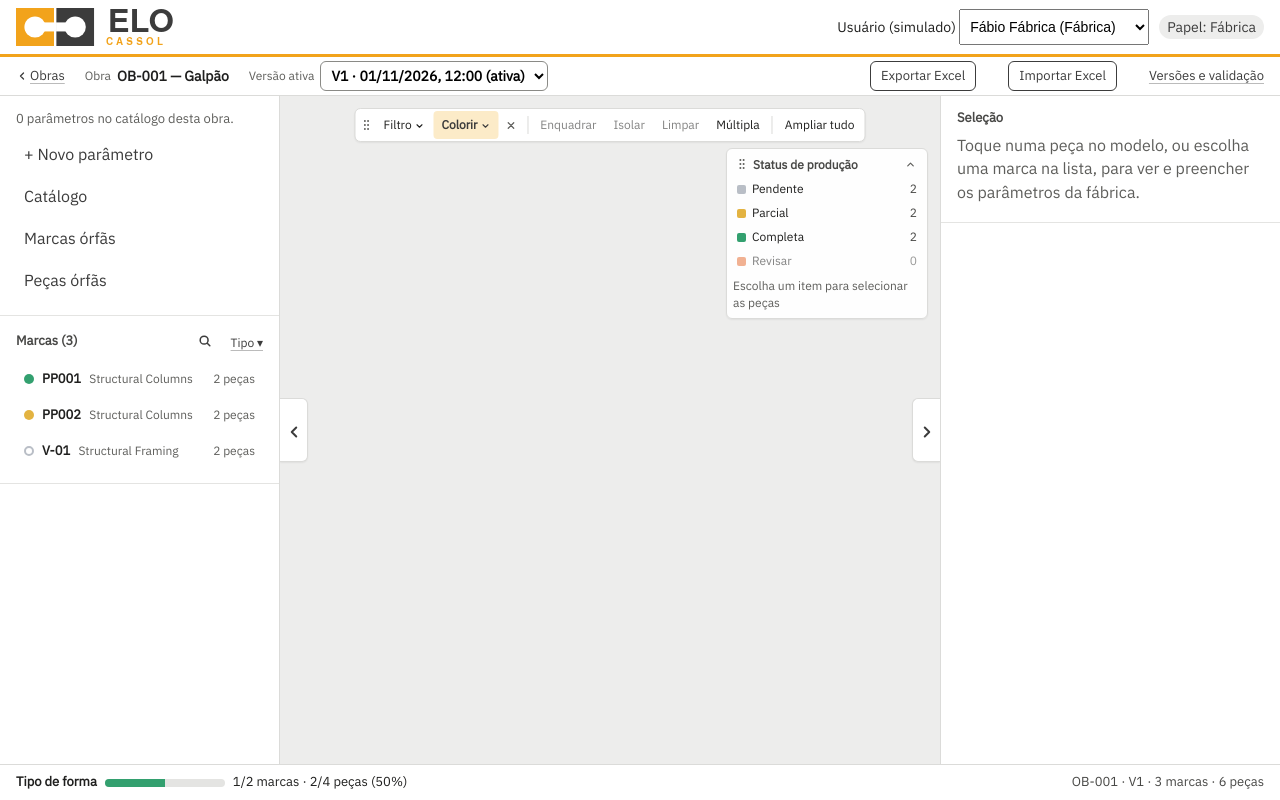
Filtro (F3) › Cancelar no Avançado não muda nada; "sem <parâmetro>" + Enter vira regra
Expected: the heading "Marcas (3)" is shown, x1=16 y1=332 x2=78 y2=349
Expected: the button "Ampliar tudo" is enabled, x1=777 y1=111 x2=863 y2=139
Click the button "Filtro". click: (404,125)
box: x1=376 y1=111 x2=432 y2=139
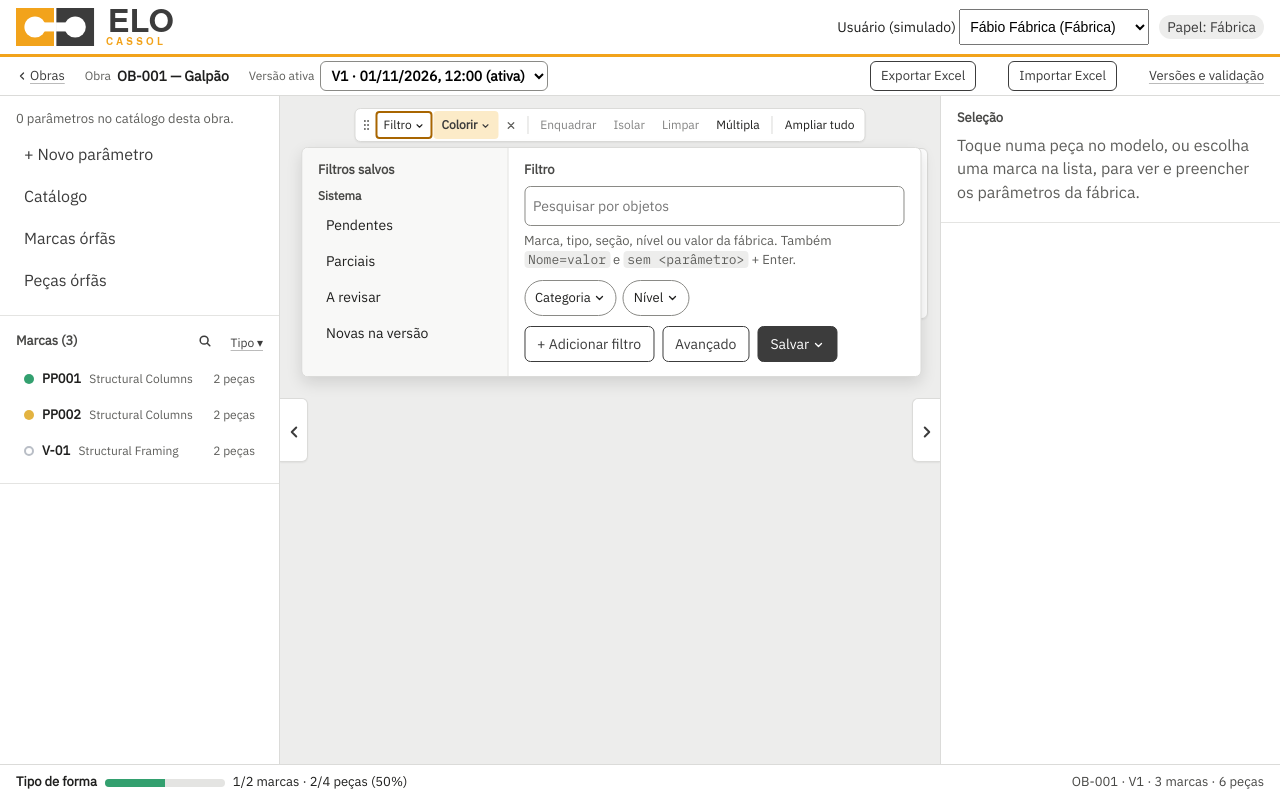
Click the button "Avançado". click: (706,344)
box: x1=662 y1=326 x2=750 y2=362
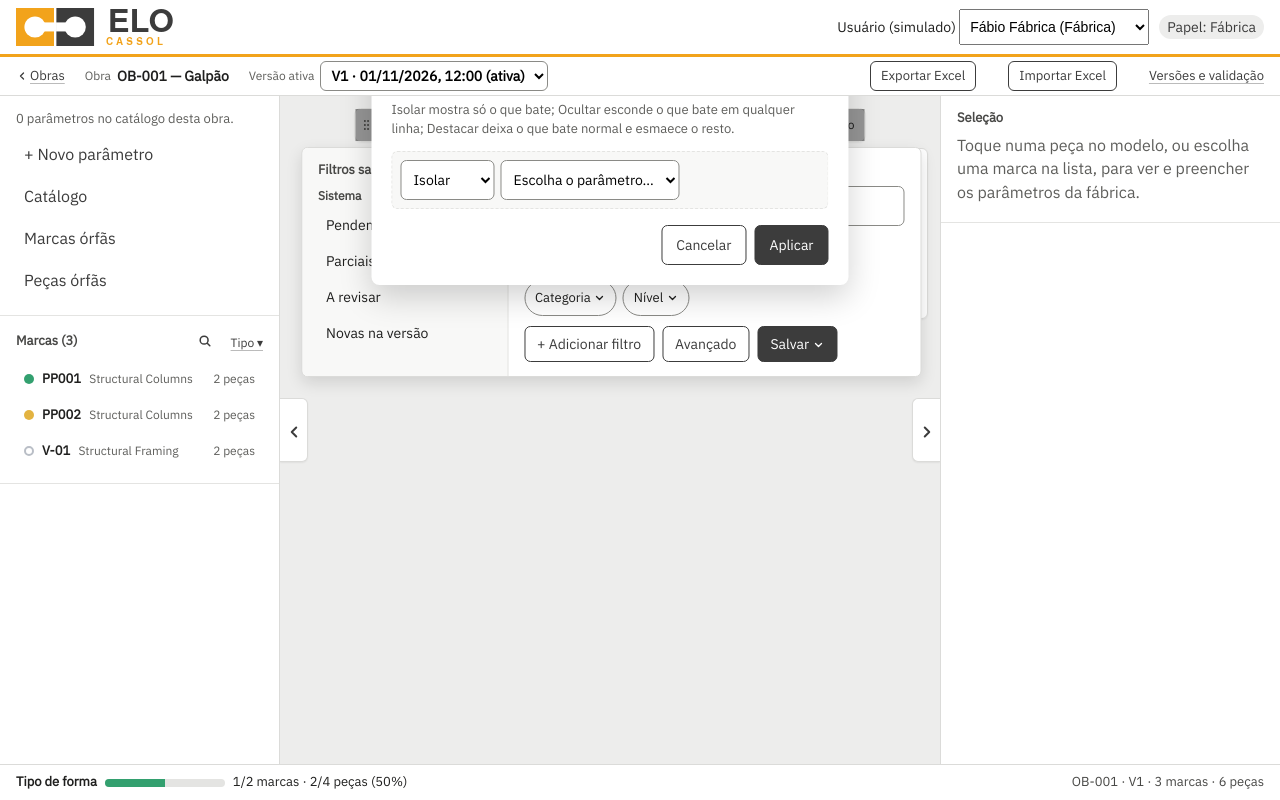
Select "Nome da montagem" in the dropdown named "Parâmetro da nova regra". click: (590,180)
box: x1=500 y1=160 x2=680 y2=200
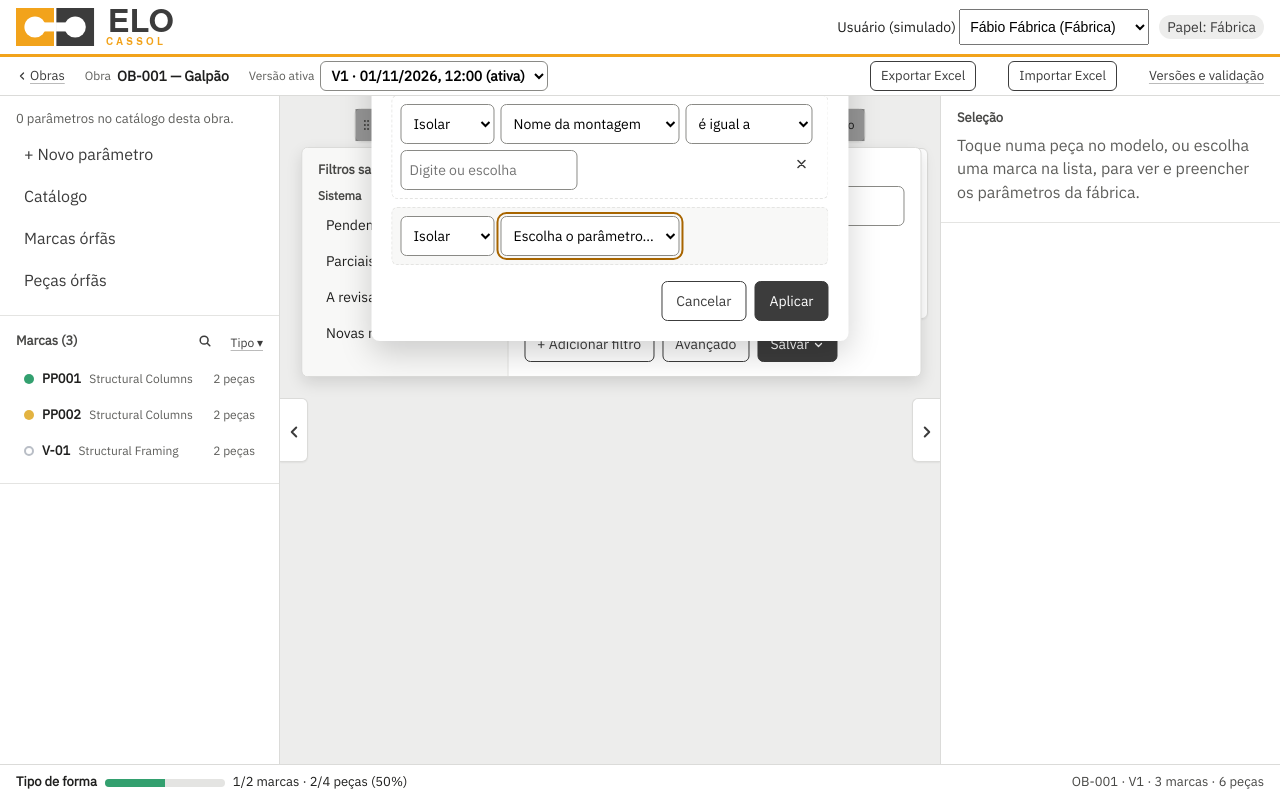
Click the button "Cancelar". click: (704,301)
box: x1=661 y1=281 x2=746 y2=321
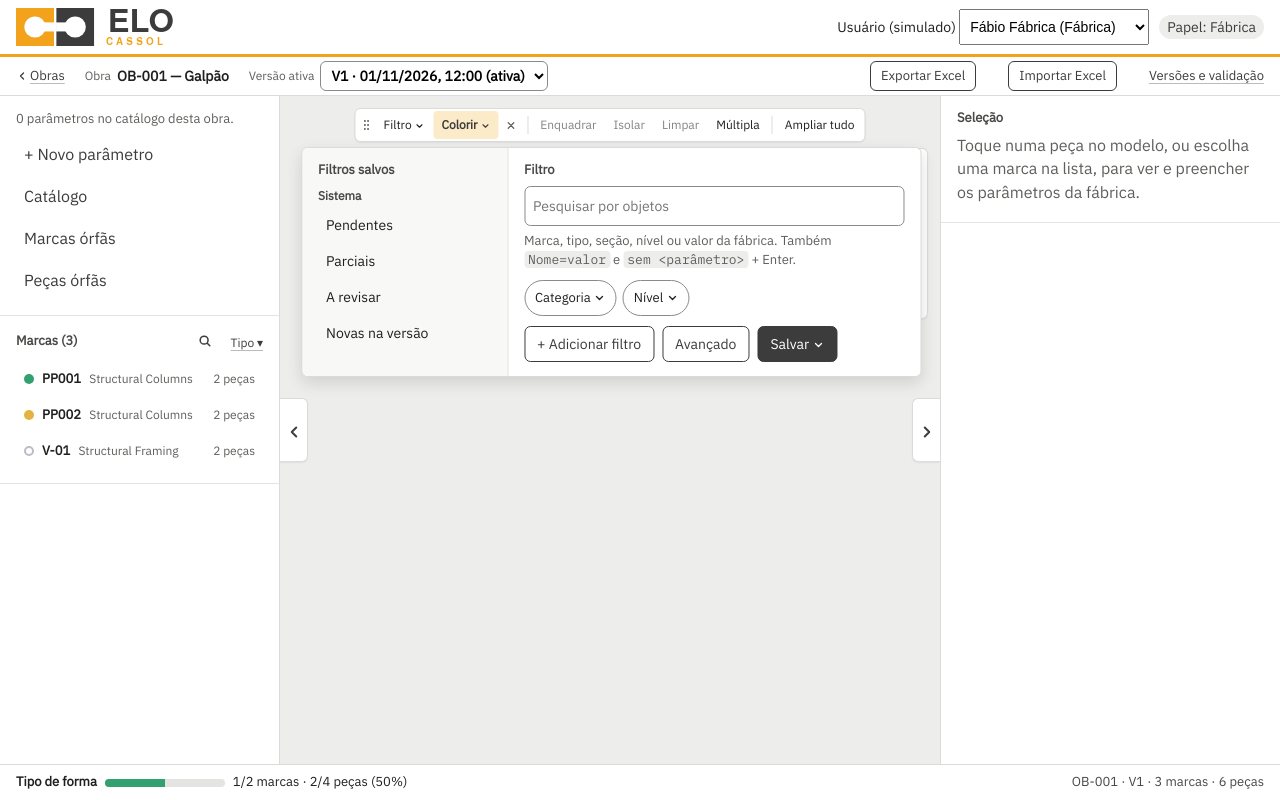
Type "sem tipo de forma" into the search field labelled "Pesquisar por objetos". click: (714,206)
box: x1=524 y1=186 x2=904 y2=226
Then press Enter
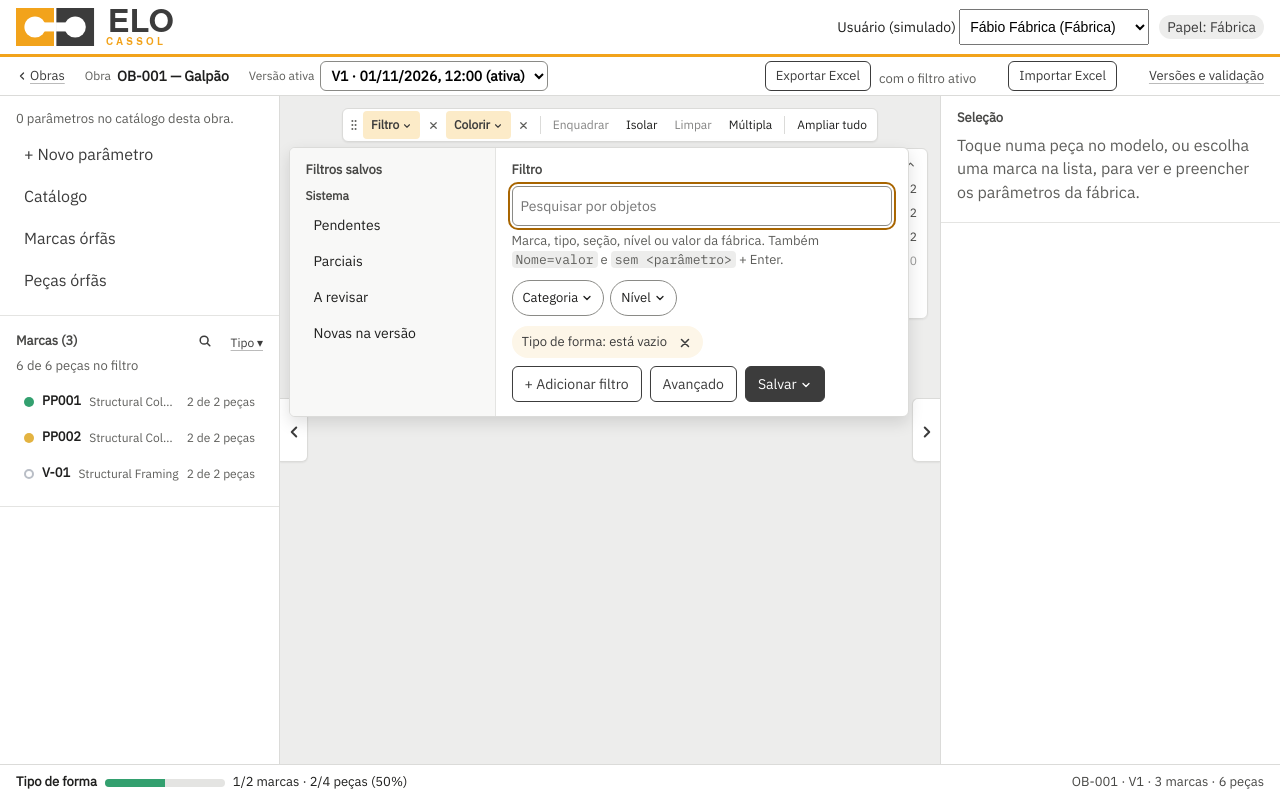
Expected: the search field labelled "Pesquisar por objetos" is empty, x1=512 y1=186 x2=892 y2=226
Expected: the list named "Filtros ativos" reads "Tipo de forma: está vazio", x1=522 y1=332 x2=667 y2=350
